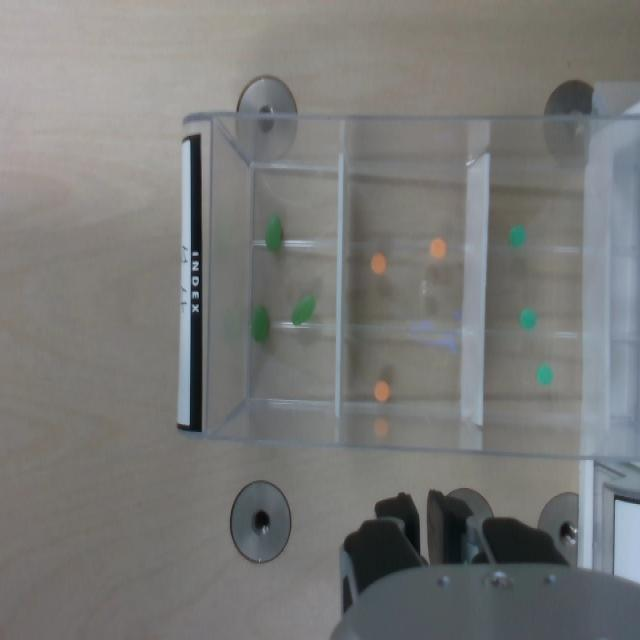famodine: (537, 364, 554, 385), (520, 307, 536, 329), (510, 225, 526, 246)
otillen_tab: (292, 295, 316, 326), (251, 305, 269, 341), (266, 213, 281, 251)
samsung_octylonium_tab: (430, 237, 447, 259), (371, 252, 387, 274), (375, 381, 389, 403)
